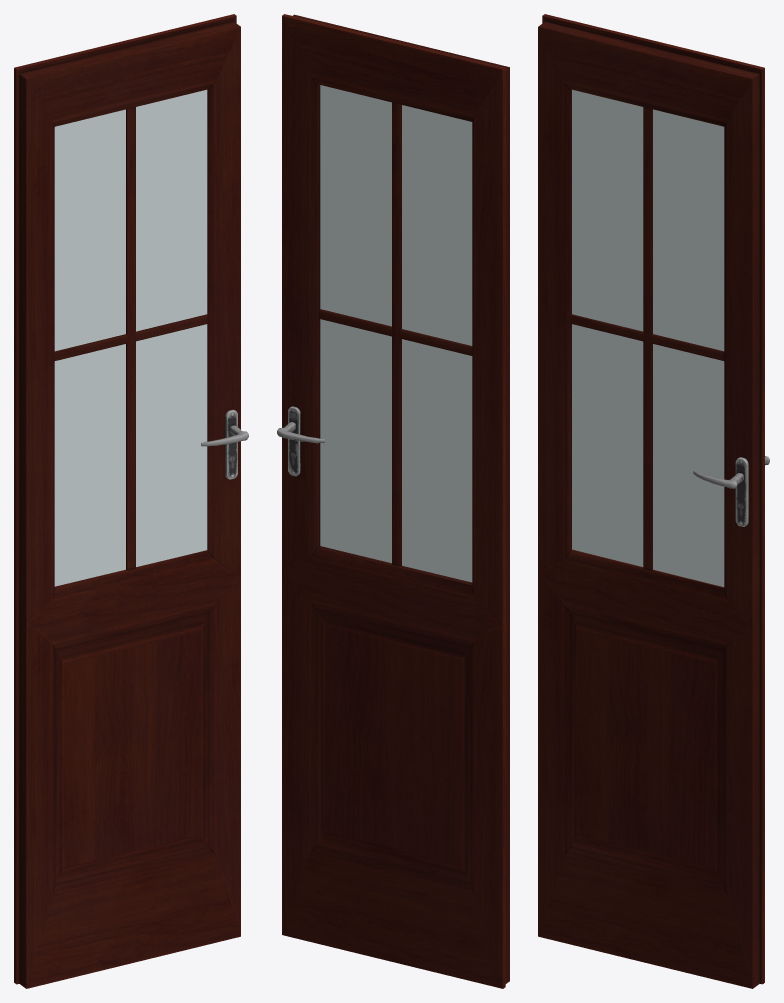
The model's file is door_test.dae.
The picture shows the model from 3 angles, left to right: view 1: azimuth 30°, elevation 25°; view 2: azimuth 150°, elevation 25°; view 3: azimuth 330°, elevation 25°; orthographic projection.
Parts seen in each view (by area): view 1: door002_part01, door002_part02; view 2: door002_part01, door002_part02; view 3: door002_part01, door002_part02.
Part boxes in pixels (bbox=[...]): door002_part01: bbox=[14, 14, 248, 988]; door002_part02: bbox=[54, 89, 207, 586]; door002_part01: bbox=[277, 14, 509, 988]; door002_part02: bbox=[320, 85, 472, 582]; door002_part01: bbox=[538, 14, 769, 988]; door002_part02: bbox=[572, 89, 724, 586].
Size of the model in its own units: 0.629 by 2.5 by 0.185.
